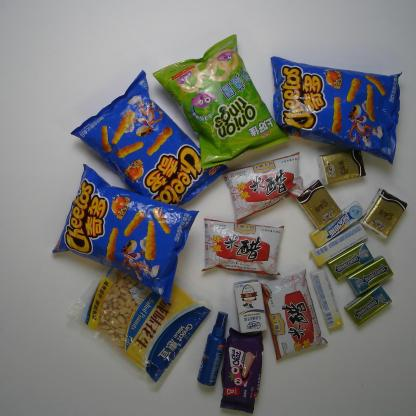Candy: (309, 222, 368, 268), (309, 202, 366, 248), (311, 270, 344, 331)
Dessert: (222, 326, 264, 413)
Dried Fruit: (73, 258, 212, 386)
Gum: (343, 284, 392, 325), (326, 240, 374, 279), (349, 255, 393, 296)
Milk: (236, 281, 270, 334)
Personal Hygiene: (196, 311, 228, 387)
Puffed Food: (71, 70, 226, 212), (51, 166, 198, 304), (153, 34, 288, 170), (268, 55, 403, 165)
Seasoner: (260, 272, 328, 362), (224, 153, 306, 222), (202, 217, 285, 279)
Tissue: (361, 187, 409, 240), (298, 179, 342, 229), (319, 148, 367, 183)
